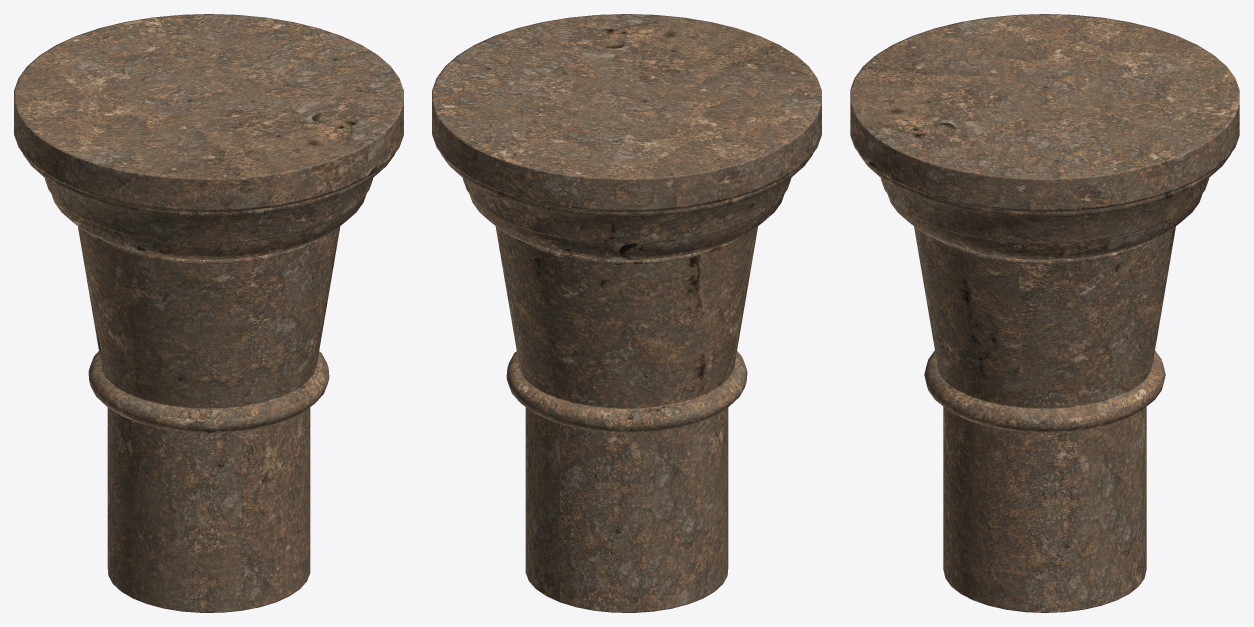
Rendered from Säule.fbx.
3 renders of one model, left to right at view 1: azimuth 30°, elevation 25°; view 2: azimuth 150°, elevation 25°; view 3: azimuth 270°, elevation 25°, orthographic.
Visible parts, largest first — view 1: Cylinder; view 2: Cylinder; view 3: Cylinder.
Part boxes in pixels (<box>): Cylinder: <box>14,14,403,612</box>; Cylinder: <box>432,14,821,612</box>; Cylinder: <box>850,14,1239,612</box>.
Size of the model in its own units: 3.85 by 3.84 by 5.15.
